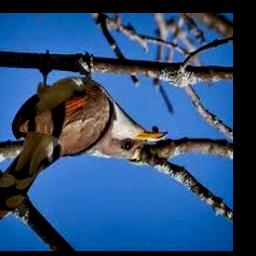Cuckoo: (0, 67, 169, 226)
